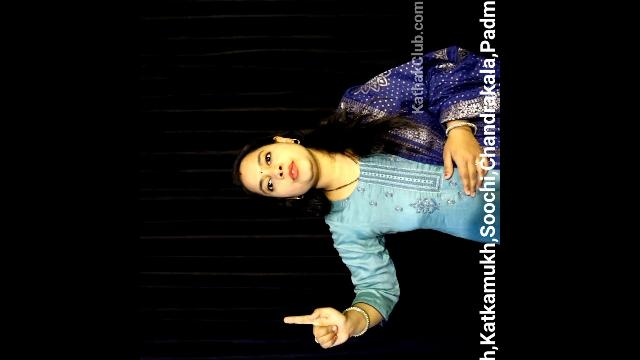soochi: (265, 291, 376, 360)
